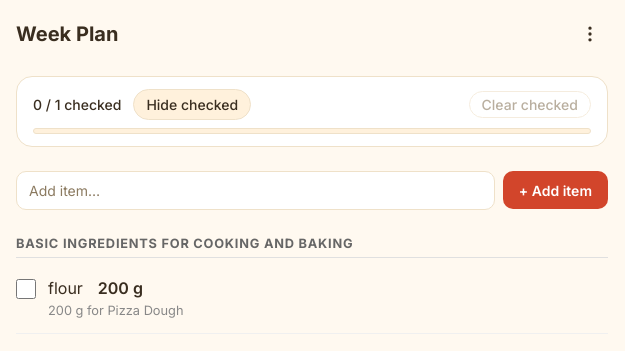
it: ShoppingListView › regenerate overflow menu › opens the overflow menu and shows the Regenerate menu item
The image size is (625, 351).
Click the button named "More actions" at (590, 34), box [572,16,608,52]
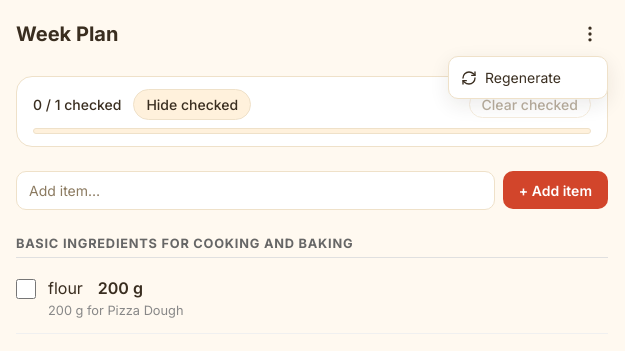
Result: the menu item with test id "regenerate-menu-item" reads "Regenerate" at [449,61,607,94]
